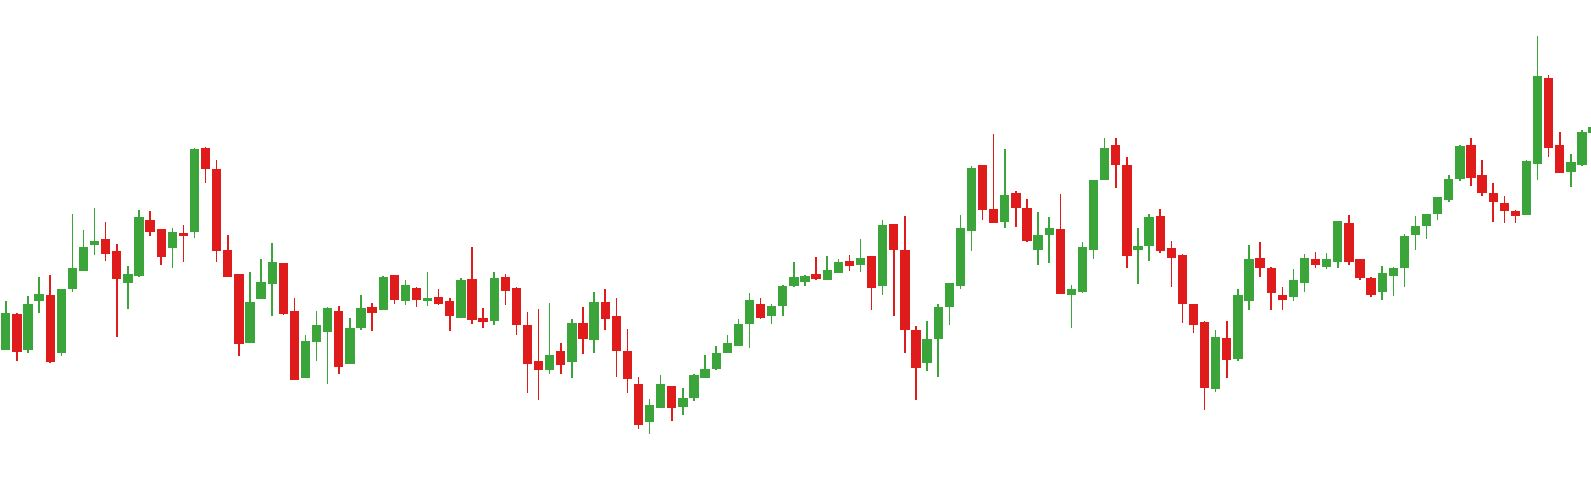buy: (897, 269, 1221, 414), (111, 218, 257, 359), (518, 324, 667, 440)
sell: (1452, 36, 1557, 191), (997, 132, 1121, 214)
